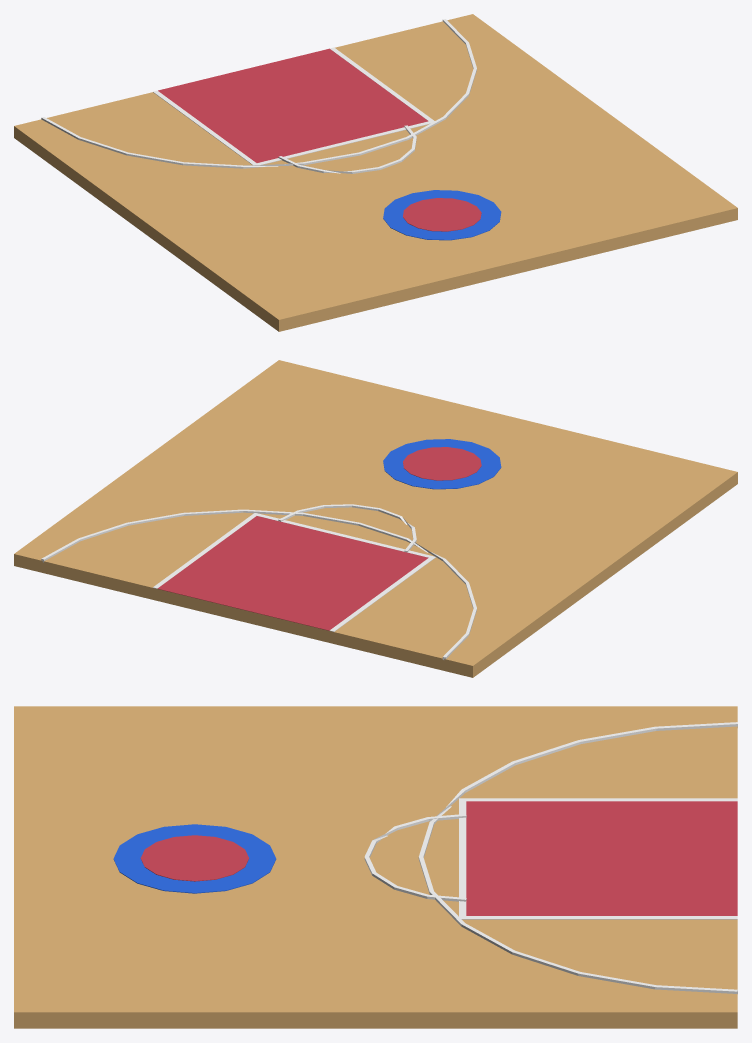
Rendered from floor_court.f077ef7fa0bf.glb.
3 views of the same model, one above another, from view 1: azimuth 30°, elevation 25°; view 2: azimuth 150°, elevation 25°; view 3: azimuth 270°, elevation 25° (orthographic). The views are drawn at different scales.
Parts seen in each view (by area): view 1: floor_court; view 2: floor_court; view 3: floor_court.
Part boxes in pixels (box(x1,y1,x2,y2)): floor_court: box(14, 14, 737, 331); floor_court: box(14, 360, 737, 677); floor_court: box(14, 706, 737, 1028).
Size of the model in its own units: 4 by 0.1147 by 4.
